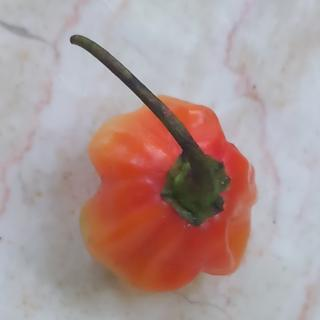Grade-B: (73, 90, 261, 293)
